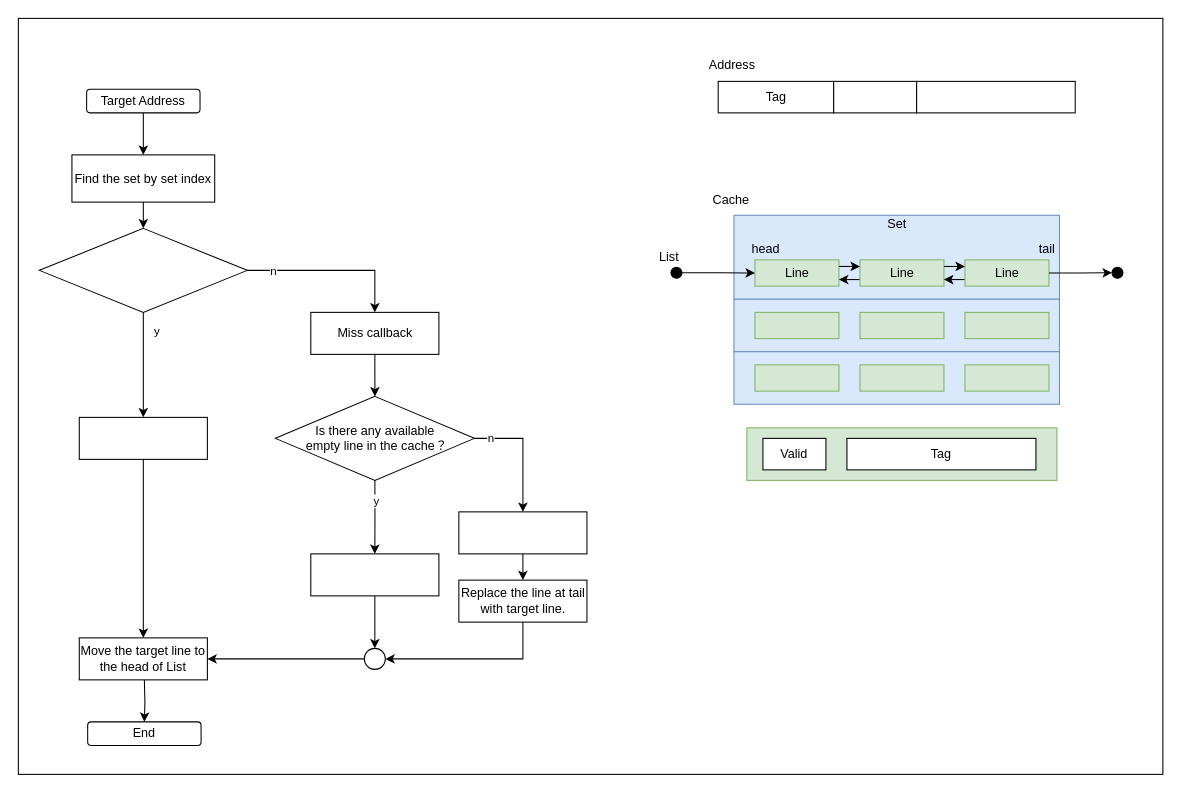
The diagram is 1181 pixels wide and 793 high, and some of its shapes have lost their labels. The shapes that lost their labels are listed below. From the top down, each one's centre as x and y in pixels, then its label:
At point (875, 96): "Set Index".
At point (995, 96): "Block Offset".
At point (142, 269): "Is the tag of target line in the set?".
At point (142, 437): "Hit callback".
At point (522, 532): "Eviction callback".
At point (374, 574): "Create a target line".
